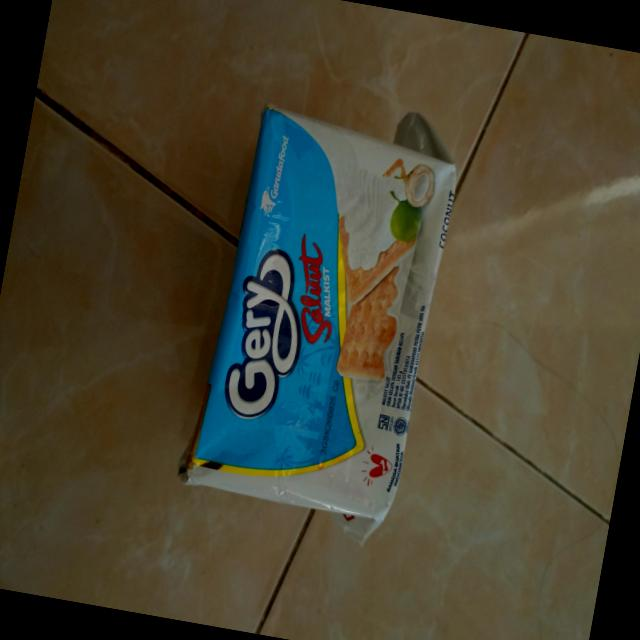gery-salut-coconut: (166, 78, 471, 550)
